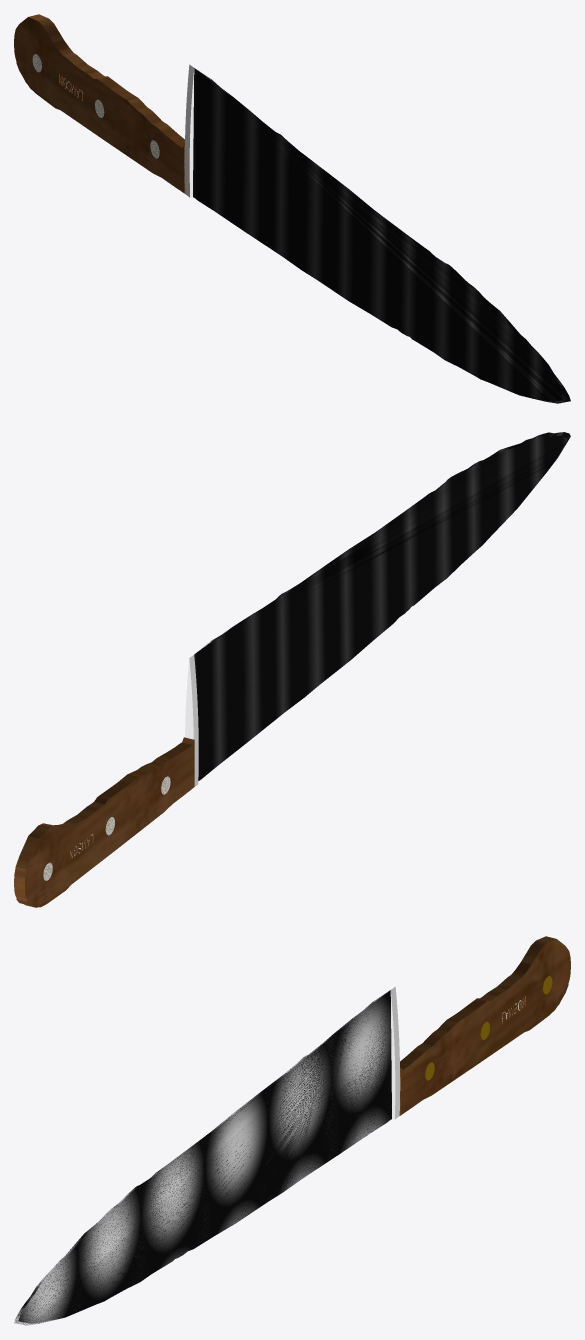
File: model_align.obj
3 renders of one model, top to bottom at view 1: azimuth 30°, elevation 25°; view 2: azimuth 150°, elevation 25°; view 3: azimuth 330°, elevation 25°, orthographic.
Parts seen in each view (by area): view 1: mesh1_mesh1-geometry; view 2: mesh1_mesh1-geometry; view 3: mesh1_mesh1-geometry.
Boxes of the visible parts, x1,y1,x2,y2 form: mesh1_mesh1-geometry: [14, 14, 570, 403]; mesh1_mesh1-geometry: [14, 432, 570, 907]; mesh1_mesh1-geometry: [14, 936, 570, 1325].
Size of the model in its own units: 0.00254 by 0.031 by 0.224.
